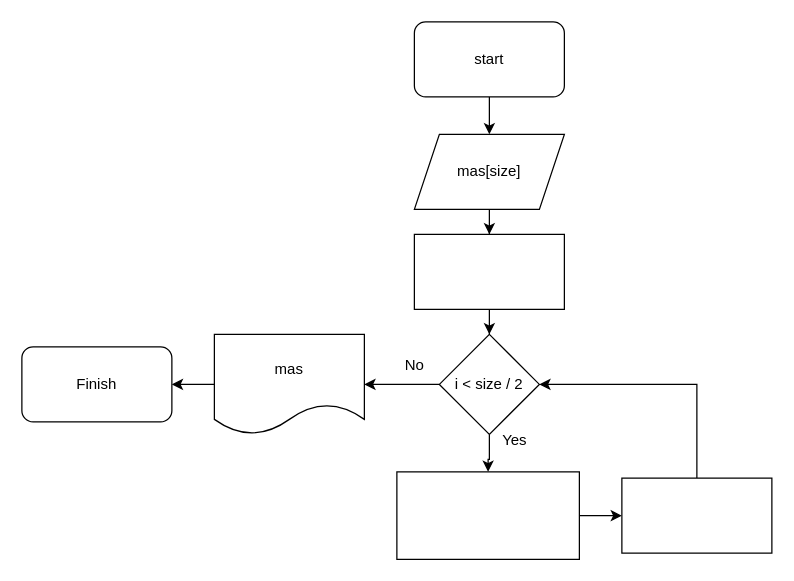
The diagram is 794 pixels wide and 581 high, and some of its shapes have lost their labels. The centre of each missing label's shape, as x and y in pixels:
"i = 0 temp = 0" belongs at [488,271].
"i = i + 1" belongs at [696,515].
"temp = mas[i] mas[i] = mas[size - 1 - i mas [size - 1 - i] = temp" belongs at [487,515].
